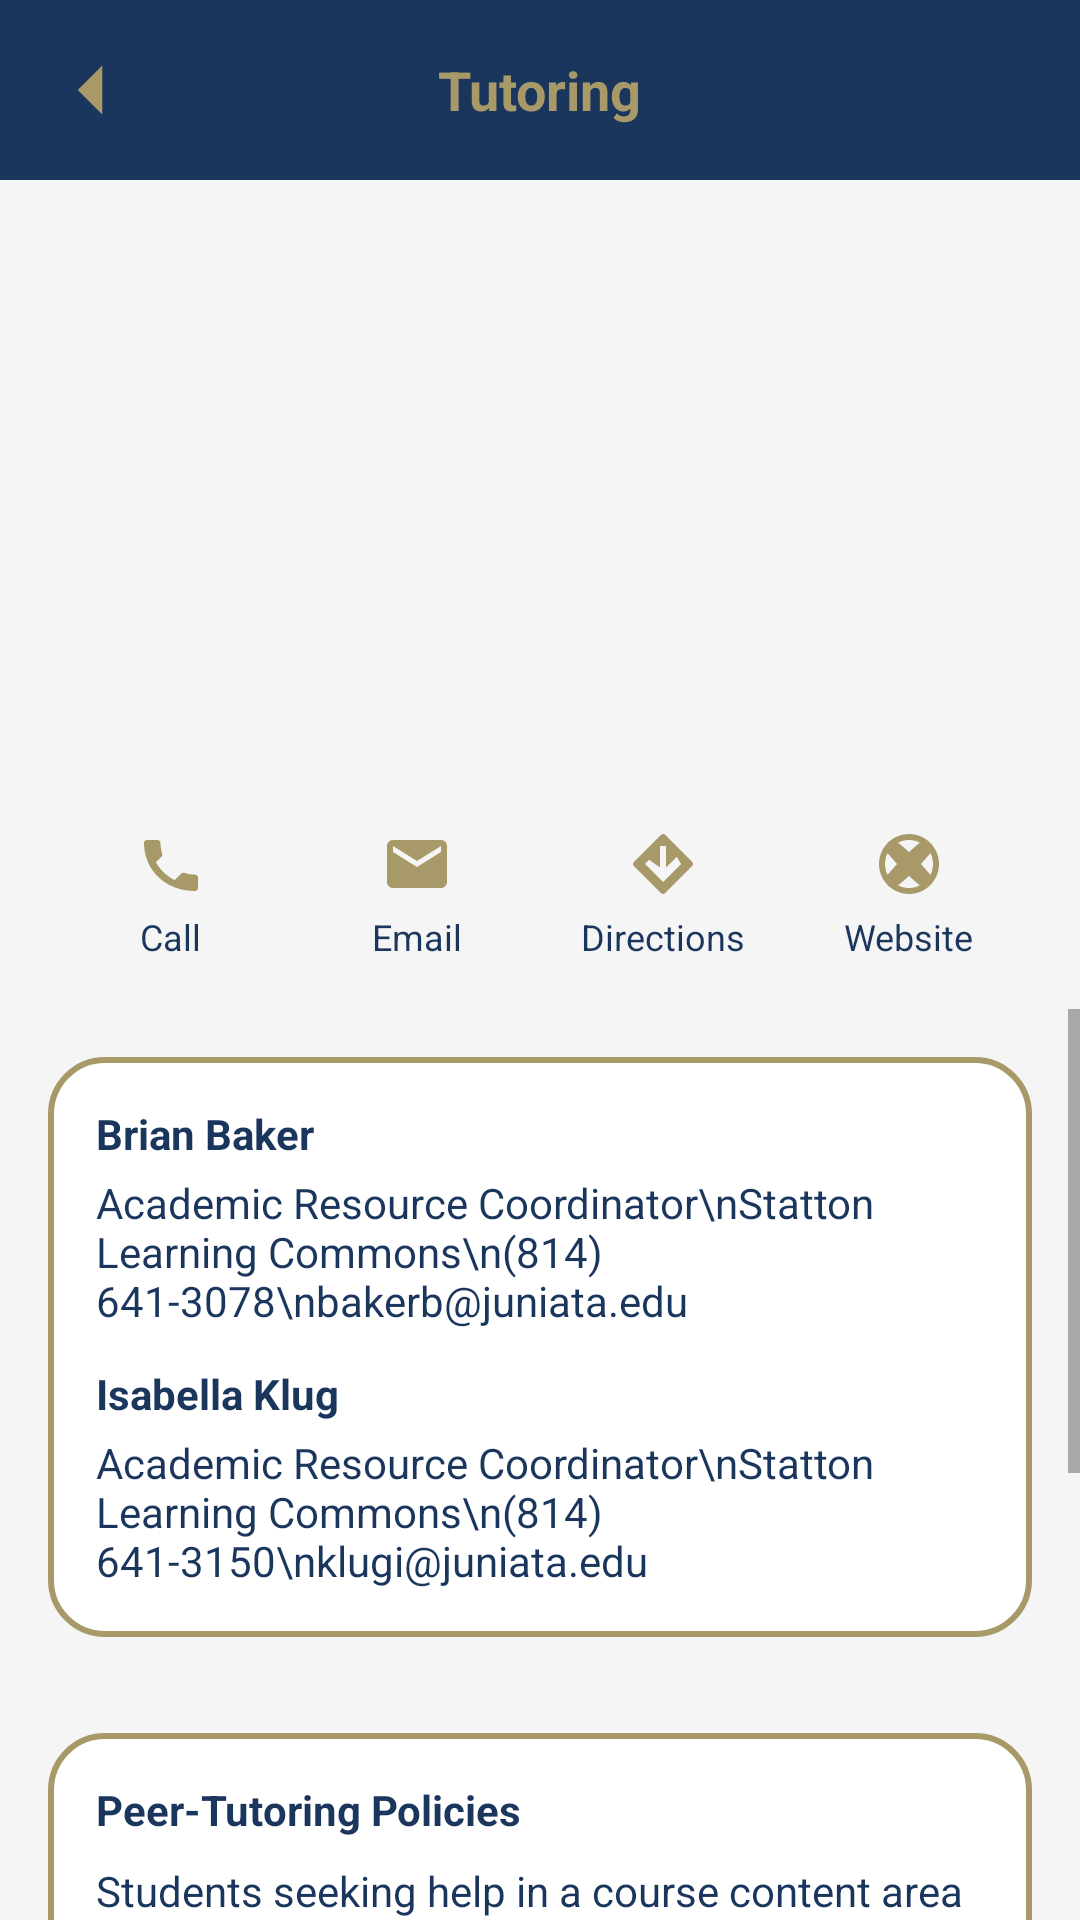

Named icons in this screenshot (1080 x 1920) and their bounding boxes, region(x1, y1, x2, y2):
back: region(78, 66, 103, 114)
